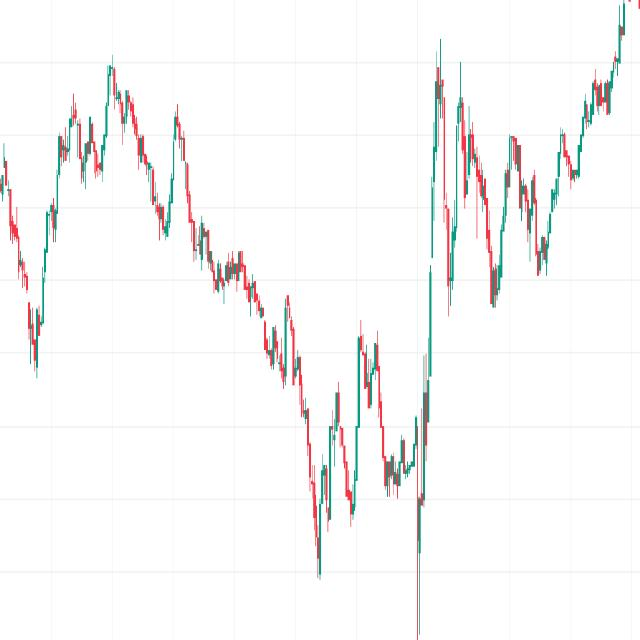Triple-Bottom: (436, 106, 564, 314), (378, 422, 418, 497)
